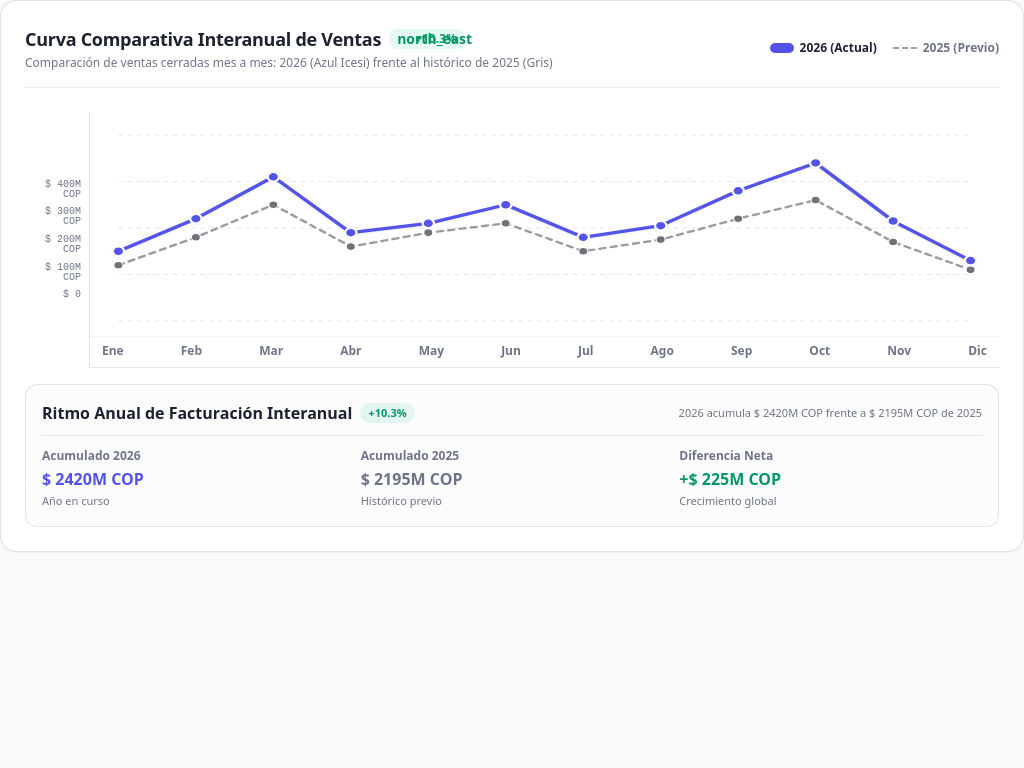
Test case: YoySalesCurveChart › displays month comparison drilldown on month button click
Step 1. Click the button "Oct" → (820, 351), box top-left (805, 341), bottom-right (834, 361)
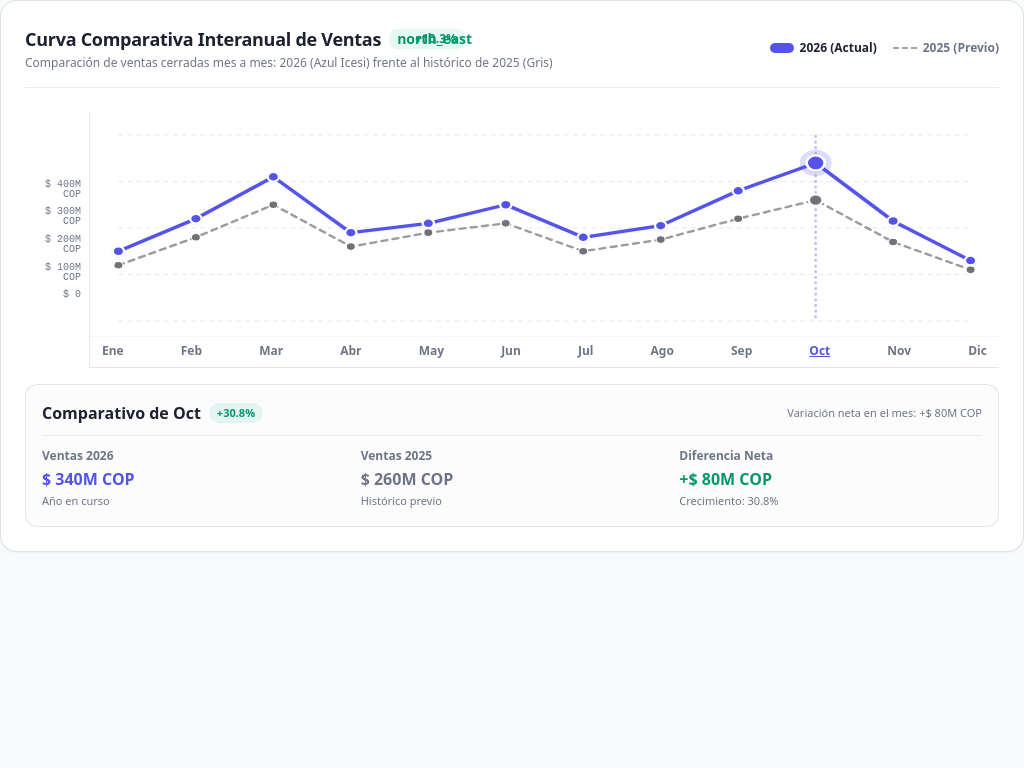
Expected: the text "Comparativo de Oct" is shown, top-left (42, 401), bottom-right (201, 425)
Expected: the text "+30.8%" is shown, top-left (209, 403), bottom-right (263, 423)
Expected: the text "Variación neta en el mes: +$ 80M COP" is shown, top-left (787, 405), bottom-right (982, 421)
